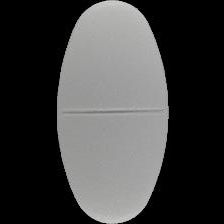60760-038: (0, 0, 224, 224)
